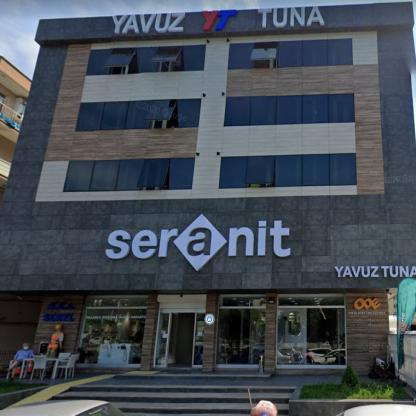window: (277, 294, 347, 368), (77, 296, 148, 365), (218, 154, 357, 188), (75, 97, 202, 132), (63, 158, 194, 191), (223, 93, 354, 126), (86, 44, 206, 75), (216, 296, 266, 368), (228, 39, 352, 68), (154, 308, 205, 368)
